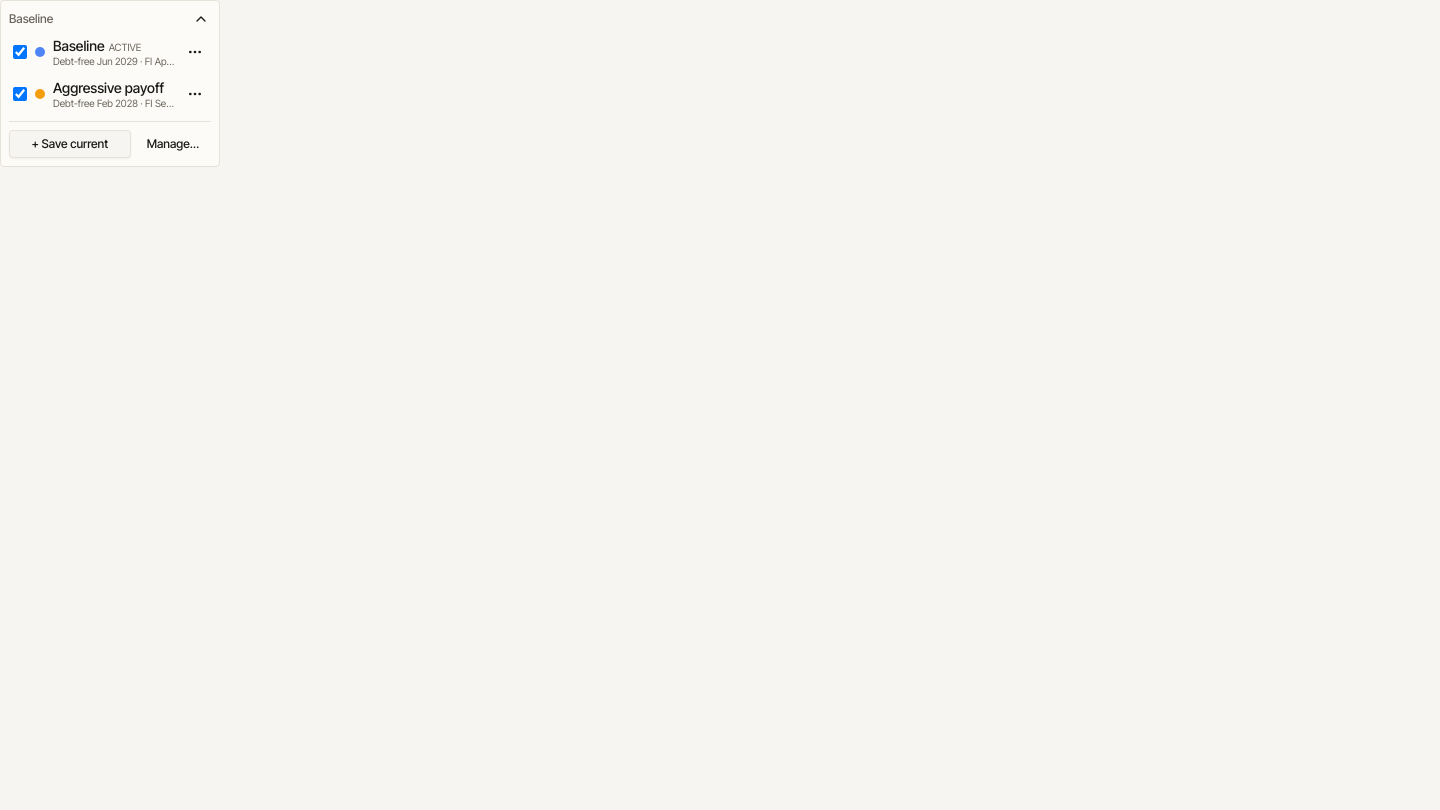
Test: ScenariosPanel › "+ Save current" button opens SaveCurrentDialog
Click the button "+ Save current".
click(70, 144)  # box [9,130,131,158]
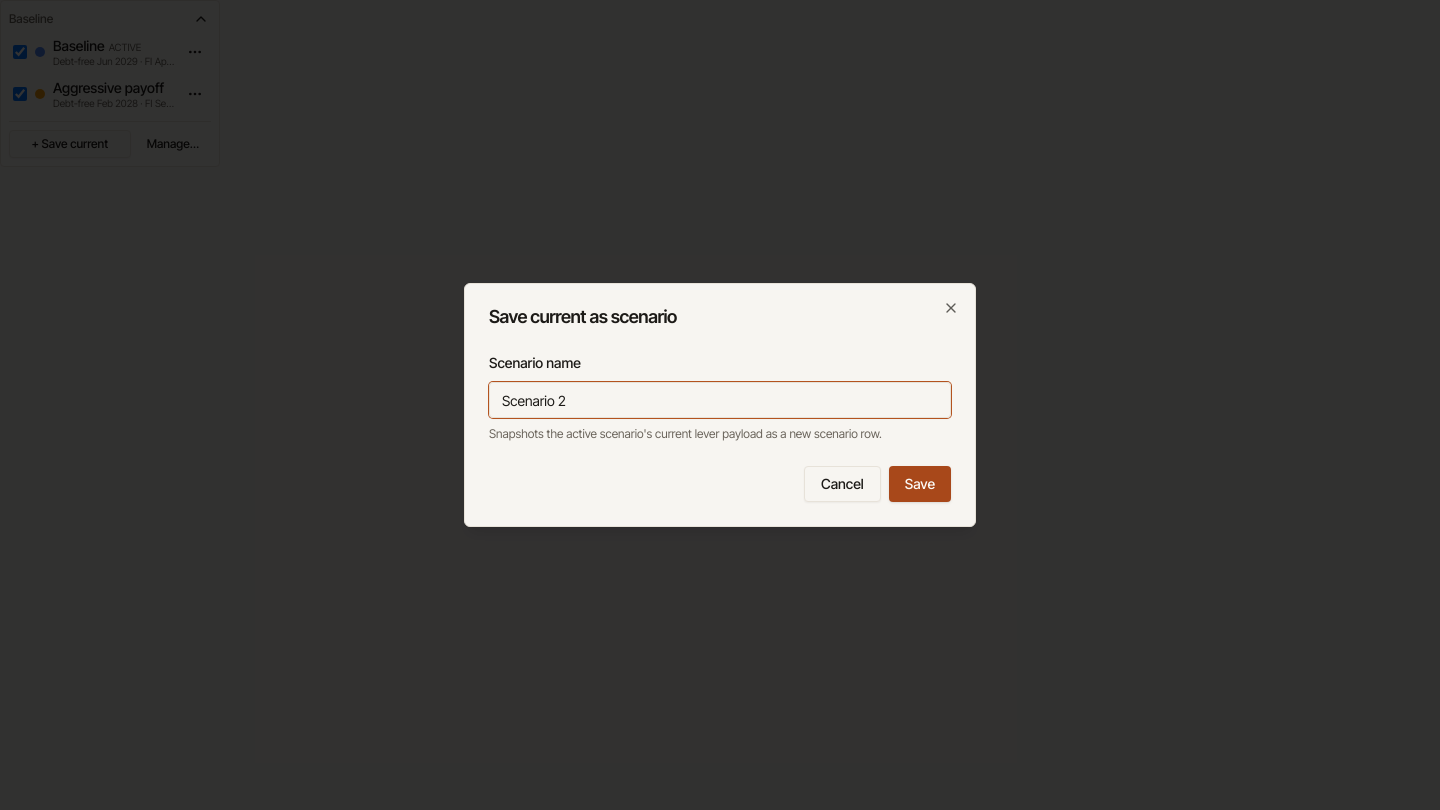
Expected: the heading "Save current as scenario" is shown, [489,306,677,327]
